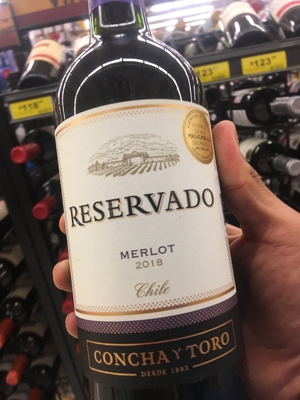reservado merlot: (55, 10, 245, 399)
